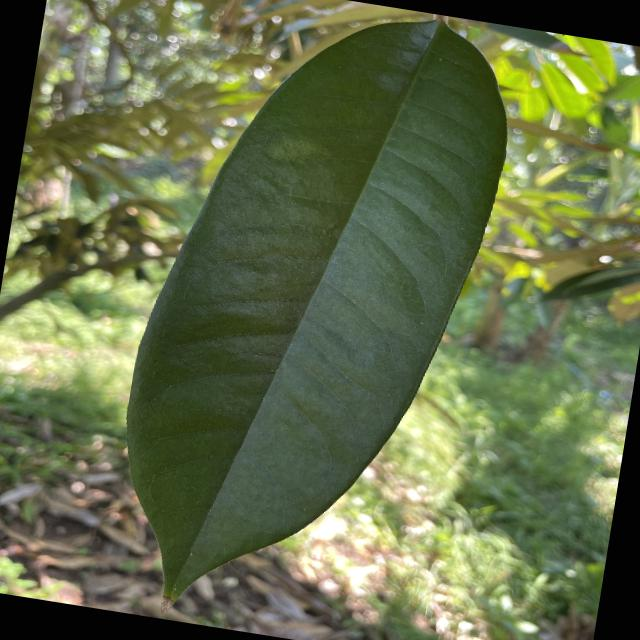No Disease: (86, 0, 534, 639)
